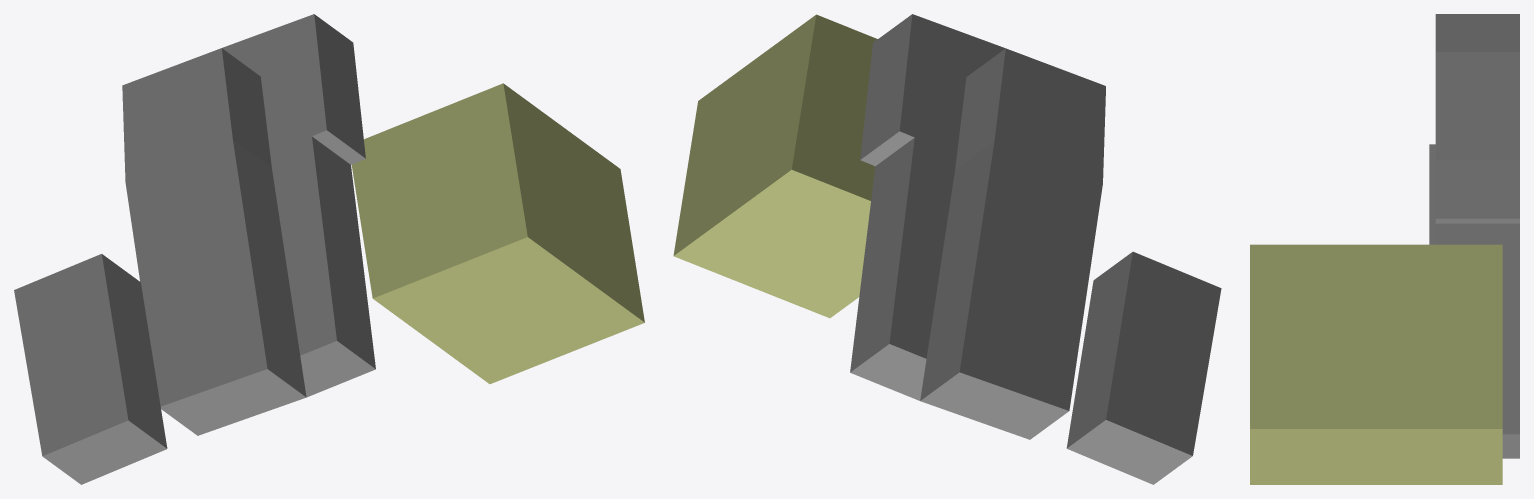
The picture shows the model from 3 angles, left to right: view 1: azimuth 30°, elevation 25°; view 2: azimuth 150°, elevation 25°; view 3: azimuth 270°, elevation 25°; orthographic projection. The views are drawn at different scales.
Visible parts, largest first — view 1: 0_1_2_0_0_2_2_0_1_2; view 2: 0_1_2_0_0_2_2_0_1_2; view 3: 0_1_2_0_0_2_2_0_1_2.
Boxes of the visible parts, x1,y1,x2,y2 form: 0_1_2_0_0_2_2_0_1_2: (14,14,644,484); 0_1_2_0_0_2_2_0_1_2: (673,14,1221,484); 0_1_2_0_0_2_2_0_1_2: (1250,14,1519,484).
Bounding box in the file's own units: 22.57 × 15.81 × 9.61.
